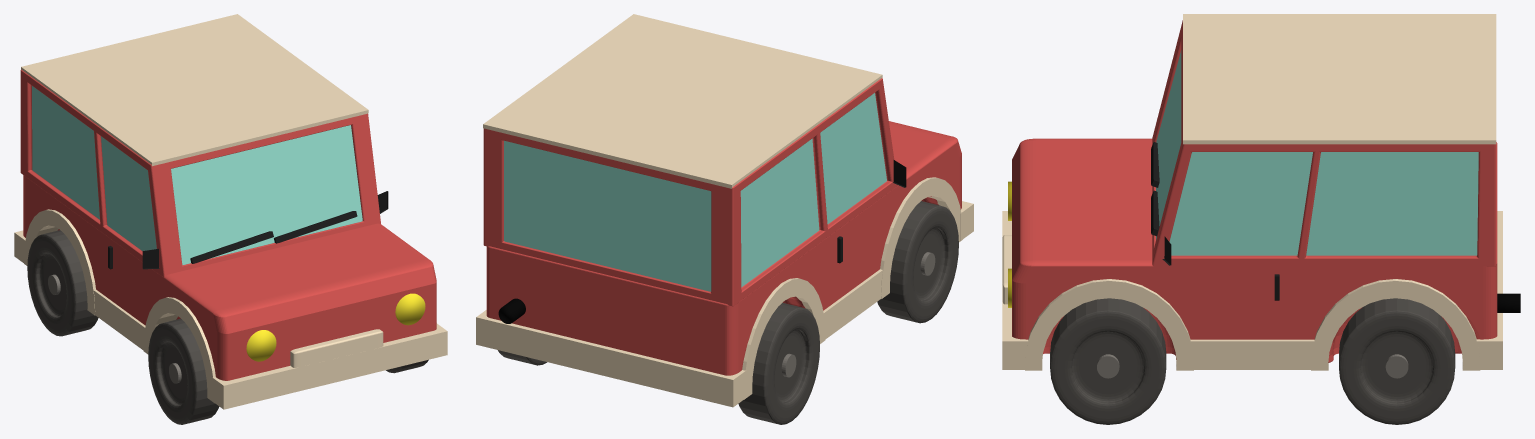
The model's file is car_model.glb.
3 renders of one model, left to right at view 1: azimuth 30°, elevation 25°; view 2: azimuth 150°, elevation 25°; view 3: azimuth 270°, elevation 25°, orthographic. The views are drawn at different scales.
Parts seen in each view (by area): view 1: jeep_body, wheel_br, wheel_fr, jeep_lights; view 2: jeep_body, wheel_fr, wheel_br; view 3: jeep_body, wheel_fl, wheel_bl.
Boxes of the visible parts, x1,y1,x2,y2 form: jeep_body: (14, 14, 447, 409); wheel_br: (27, 230, 98, 336); wheel_fr: (148, 318, 219, 424); jeep_lights: (246, 293, 425, 361); jeep_body: (476, 14, 973, 407); wheel_fr: (877, 201, 958, 323); wheel_br: (738, 302, 819, 424); jeep_body: (1002, 14, 1520, 370); wheel_fl: (1050, 298, 1166, 424); wheel_bl: (1339, 298, 1455, 424).
Size of the model in its own units: 1.65 by 1.5 by 2.52.
